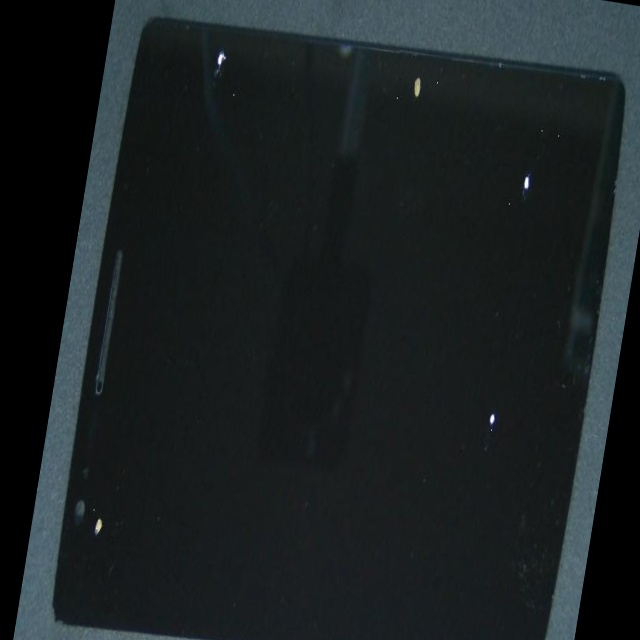stain: (260, 109, 640, 639), (279, 68, 640, 345), (236, 16, 546, 201), (27, 242, 138, 640), (138, 21, 273, 214)
